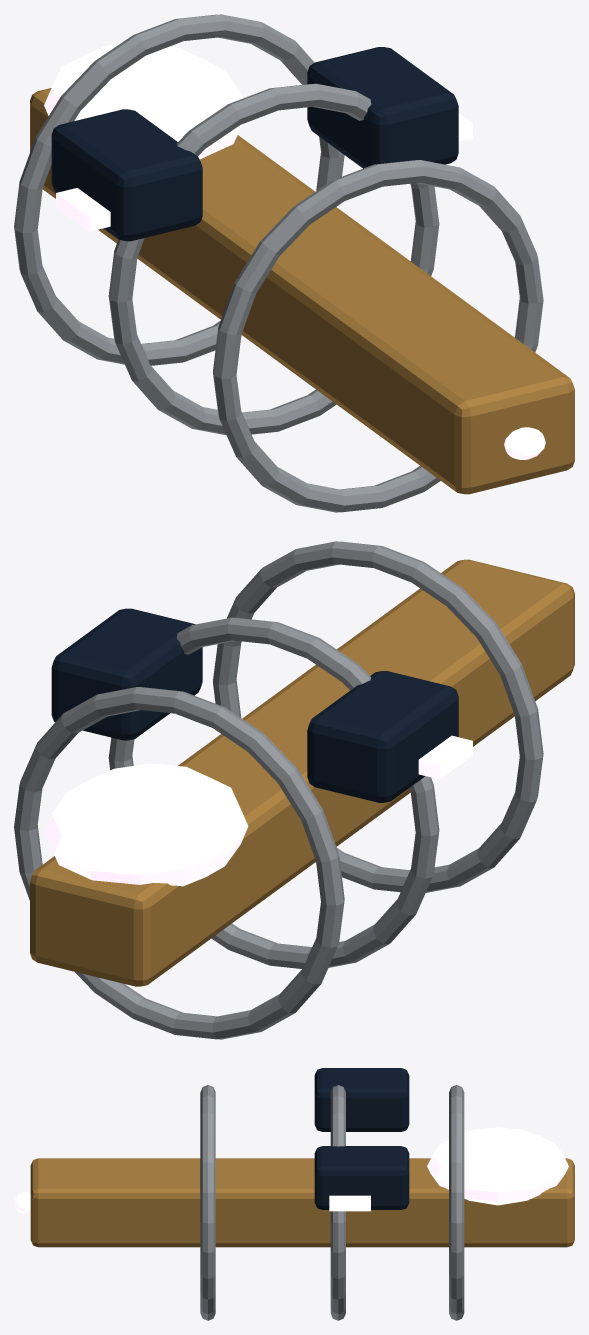
3 views of the same model, one above another, from view 1: azimuth 30°, elevation 25°; view 2: azimuth 150°, elevation 25°; view 3: azimuth 270°, elevation 25° (orthographic). The views are drawn at different scales.
Visible parts, largest first — view 1: RIMWARD_HULL, RIMWARD_EMISSIVE, RIMWARD_ENGINE_GLOW; view 2: RIMWARD_HULL, RIMWARD_EMISSIVE; view 3: RIMWARD_HULL, RIMWARD_EMISSIVE.
Boxes of the visible parts, bbox=[...] form: RIMWARD_HULL: bbox=[14, 14, 574, 512]; RIMWARD_EMISSIVE: bbox=[44, 44, 472, 231]; RIMWARD_ENGINE_GLOW: bbox=[504, 427, 545, 459]; RIMWARD_HULL: bbox=[14, 541, 574, 1039]; RIMWARD_EMISSIVE: bbox=[44, 735, 472, 886]; RIMWARD_HULL: bbox=[30, 1068, 574, 1320]; RIMWARD_EMISSIVE: bbox=[329, 1127, 568, 1211].
Bounding box in the file's own units: 7.96 × 6.81 × 16.12.
